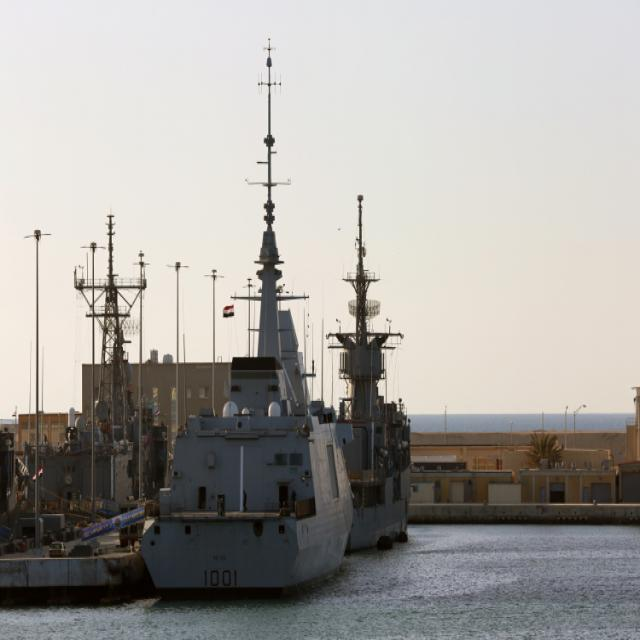Fragata: (133, 37, 353, 600), (324, 195, 415, 550)
